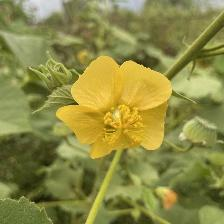indian mallow: (61, 57, 171, 159)
